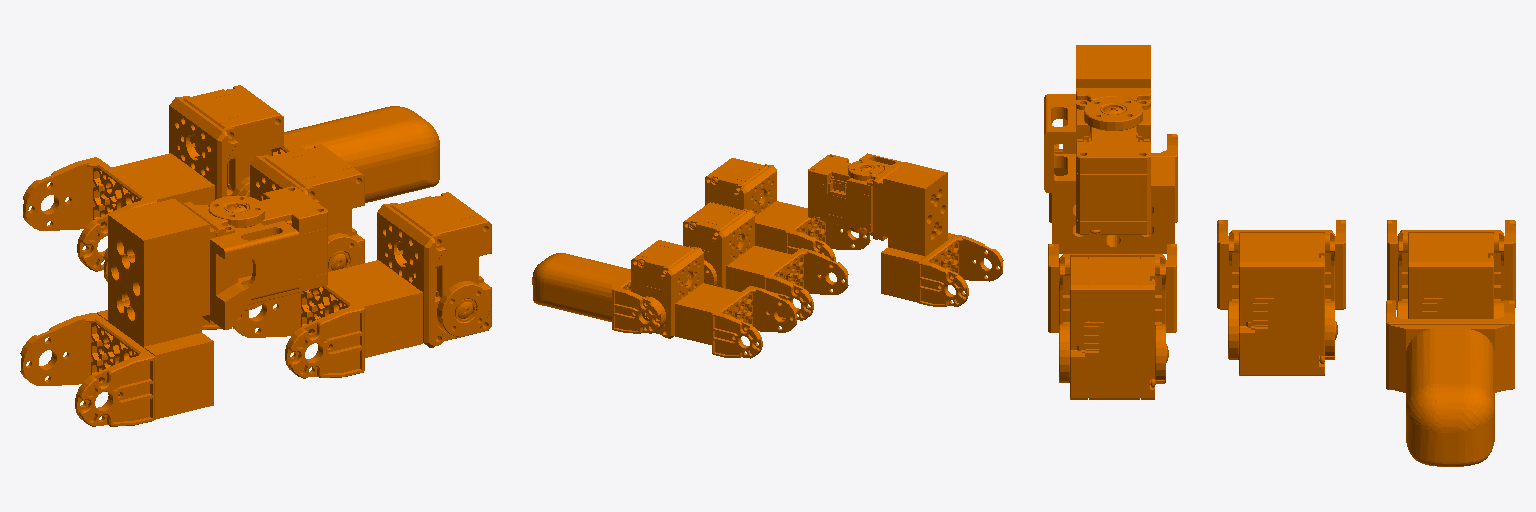
robot.urdf — onshape:
<robot name="onshape">
  <link name="palm_lower">
    <inertial>
      <origin xyz="0.0 0.0 0.0" rpy="0.0 -0.0 0.0"/>
      <mass value="0.237"/>
      <inertia ixx="0.000354094" ixy="-1.193e-06" ixz="-2.445e-06" iyy="0.000260915" iyz="-2.905e-06" izz="0.000529257"/>
    </inertial>
    <visual>
      <geometry>
        <mesh filename="../assets/leap/leap_hand/palm_lower.stl"/>
      </geometry>
      <origin xyz="-0.020095249652862544 0.025757756134899473 -0.034722403578460216" rpy="0.0 -0.0 0.0"/>
      <material name="palm_lower_material">
        <color rgba="0.6039215686274509 0.14901960784313725 0.14901960784313725 1.0"/>
      </material>
    </visual>
    <collision>
      <geometry>
        <mesh filename="../assets/leap/leap_hand/palm_lower.stl"/>
      </geometry>
      <origin xyz="-0.020095249652862544 0.025757756134899473 -0.034722403578460216" rpy="0.0 -0.0 0.0"/>
    </collision>
  </link>
  <link name="mcp_joint">
    <inertial>
      <origin xyz="0.0 0.0 0.0" rpy="0.0 -0.0 0.0"/>
      <mass value="0.044"/>
      <inertia ixx="1.1499e-05" ixy="3.049e-06" ixz="1.21e-07" iyy="7.796e-06" iyz="1.12e-07" izz="1.4759e-05"/>
    </inertial>
    <visual>
      <geometry>
        <mesh filename="../assets/leap/leap_hand/mcp_joint.stl"/>
      </geometry>
      <origin xyz="0.008406902261174496 0.0077662438597169954 0.014657354985032912" rpy="1.6375789613221e-15 -1.021047330249102e-30 1.7177968783327987e-31"/>
      <material name="mcp_joint_material">
        <color rgba="0.8666666666666667 0.8666666666666667 0.050980392156862744 1.0"/>
      </material>
    </visual>
    <collision>
      <geometry>
        <mesh filename="../assets/leap/leap_hand/mcp_joint.stl"/>
      </geometry>
      <origin xyz="0.008406902261174496 0.0077662438597169954 0.014657354985032912" rpy="1.6375789613221e-15 -1.021047330249102e-30 1.7177968783327987e-31"/>
    </collision>
  </link>
  <link name="pip">
    <inertial>
      <origin xyz="0.0 0.0 0.0" rpy="0.0 -0.0 0.0"/>
      <mass value="0.032"/>
      <inertia ixx="4.798e-06" ixy="1.2e-08" ixz="4e-09" iyy="2.862e-06" iyz="1.1e-08" izz="4.234e-06"/>
    </inertial>
    <visual>
      <geometry>
        <mesh filename="../assets/leap/leap_hand/pip.stl"/>
      </geometry>
      <origin xyz="0.009643363092271328 0.0002999999999999895 0.0007840340104173765" rpy="-1.5707963267948966 -1.5707963267948963 0.0"/>
      <material name="pip_material">
        <color rgba="0.7490196078431373 0.7490196078431373 0.7490196078431373 1.0"/>
      </material>
    </visual>
    <collision>
      <geometry>
        <mesh filename="../assets/leap/leap_hand/pip.stl"/>
      </geometry>
      <origin xyz="0.009643363092271328 0.0002999999999999895 0.0007840340104173765" rpy="-1.5707963267948966 -1.5707963267948963 0.0"/>
    </collision>
  </link>
  <link name="dip_long">
    <inertial>
      <origin xyz="0.0 0.0 0.0" rpy="0.0 -0.0 0.0"/>
      <mass value="0.037"/>
      <inertia ixx="5.542e-06" ixy="-6.07e-07" ixz="-1.7e-08" iyy="5.727e-06" iyz="-2.3e-08" izz="6.682e-06"/>
    </inertial>
    <visual>
      <geometry>
        <mesh filename="custom_models/dip_long.stl"/>
      </geometry>
      <origin xyz="0.021133352895225003 -0.00843211914670488 0.00978508816209524" rpy="-3.141592653589793 4.507511124216441e-32 4.439548105392361e-32"/>
      <material name="dip_material">
        <color rgba="0.878 0.467 0.0 1.0"/>
      </material>
    </visual>
    <collision>
      <geometry>
        <mesh filename="custom_models/dip_long.stl"/>
      </geometry>
      <origin xyz="0.021133352895225003 -0.00843211914670488 0.00978508816209524" rpy="-3.141592653589793 4.507511124216441e-32 4.439548105392361e-32"/>
    </collision>
  </link>
  <link name="fingertip_long">
    <inertial>
      <origin xyz="0.0 0.0 0.0" rpy="0.0 -0.0 0.0"/>
      <mass value="0.016"/>
      <inertia ixx="3.368e-06" ixy="1.15e-07" ixz="0.0" iyy="1.556e-06" iyz="0.0" izz="2.863e-06"/>
    </inertial>
    <visual>
      <geometry>
        <mesh filename="custom_models/fingertip_long.stl"/>
      </geometry>
      <origin xyz="0.013286424108533503 -0.006114238386541987 0.014499999999999498" rpy="3.141592653589793 1.1993117970061735e-33 4.439548105392361e-32"/>
      <material name="fingertip_material">
        <color rgba="0.878 0.467 0.0 1.0"/>
      </material>
    </visual>
    <collision>
      <geometry>
        <mesh filename="custom_models/fingertip_long.stl"/>
      </geometry>
      <origin xyz="0.013286424108533503 -0.006114238386541987 0.014499999999999498" rpy="3.141592653589793 1.1993117970061735e-33 4.439548105392361e-32"/>
    </collision>
  </link>
  <link name="pip_4">
    <inertial>
      <origin xyz="0.0 0.0 0.0" rpy="0.0 -0.0 0.0"/>
      <mass value="0.032"/>
      <inertia ixx="4.798e-06" ixy="1.2e-08" ixz="4e-09" iyy="2.862e-06" iyz="1.1e-08" izz="4.234e-06"/>
    </inertial>
    <visual>
      <geometry>
        <mesh filename="../assets/leap/leap_hand/pip.stl"/>
      </geometry>
      <origin xyz="-0.005356636907728671 0.0002999999999999999 0.0007840340104173782" rpy="-1.5707963267948966 -1.5707963267948963 0.0"/>
      <material name="pip_material">
        <color rgba="0.7490196078431373 0.7490196078431373 0.7490196078431373 1.0"/>
      </material>
    </visual>
    <collision>
      <geometry>
        <mesh filename="../assets/leap/leap_hand/pip.stl"/>
      </geometry>
      <origin xyz="-0.005356636907728671 0.0002999999999999999 0.0007840340104173782" rpy="-1.5707963267948966 -1.5707963267948963 0.0"/>
    </collision>
  </link>
  <link name="thumb_pip">
    <inertial>
      <origin xyz="0.0 0.0 0.0" rpy="0.0 -0.0 0.0"/>
      <mass value="0.003"/>
      <inertia ixx="5.93e-07" ixy="0.0" ixz="0.0" iyy="5.49e-07" iyz="0.0" izz="2.24e-07"/>
    </inertial>
    <visual>
      <geometry>
        <mesh filename="../assets/leap/leap_hand/thumb_pip.stl"/>
      </geometry>
      <origin xyz="0.011961920770611187 -5.30825383648903e-16 -0.0158526489566642" rpy="1.5707963267948966 1.6050198443300153e-46 -3.9204996250525193e-59"/>
      <material name="thumb_pip_material">
        <color rgba="0.8666666666666667 0.8666666666666667 0.050980392156862744 1.0"/>
      </material>
    </visual>
    <collision>
      <geometry>
        <mesh filename="../assets/leap/leap_hand/thumb_pip.stl"/>
      </geometry>
      <origin xyz="0.011961920770611187 -5.30825383648903e-16 -0.0158526489566642" rpy="1.5707963267948966 1.6050198443300153e-46 -3.9204996250525193e-59"/>
    </collision>
  </link>
  <link name="thumb_dip">
    <inertial>
      <origin xyz="0.0 0.0 0.0" rpy="0.0 -0.0 0.0"/>
      <mass value="0.038"/>
      <inertia ixx="8.474e-06" ixy="2.41e-07" ixz="2.6e-08" iyy="3.841e-06" iyz="2.5e-08" izz="7.679e-06"/>
    </inertial>
    <visual>
      <geometry>
        <mesh filename="../assets/leap/leap_hand/thumb_dip.stl"/>
      </geometry>
      <origin xyz="0.043968715707239175 0.0579529529737092 -0.008628676449369476" rpy="1.94289029309401e-16 3.27515792264422e-15 1.112375852965736e-46"/>
      <material name="thumb_dip_material">
        <color rgba="0.8666666666666667 0.8666666666666667 0.050980392156862744 1.0"/>
      </material>
    </visual>
    <collision>
      <geometry>
        <mesh filename="../assets/leap/leap_hand/thumb_dip.stl"/>
      </geometry>
      <origin xyz="0.043968715707239175 0.0579529529737092 -0.008628676449369476" rpy="1.94289029309401e-16 3.27515792264422e-15 1.112375852965736e-46"/>
    </collision>
  </link>
  <link name="thumb_fingertip">
    <inertial>
      <origin xyz="0.0 0.0 0.0" rpy="0.0 -0.0 0.0"/>
      <mass value="0.049"/>
      <inertia ixx="2.0372e-05" ixy="-4.89e-07" ixz="-3e-08" iyy="4.336e-06" iyz="-9.7e-08" izz="1.9845e-05"/>
    </inertial>
    <visual>
      <geometry>
        <mesh filename="../assets/leap/leap_hand/thumb_fingertip.stl"/>
      </geometry>
      <origin xyz="0.06255953846266739 0.07845968291139699 0.048992911807332215" rpy="4.379057701015637e-47 -3.33066907387547e-16 1.2042408677791935e-46"/>
      <material name="thumb_fingertip_material">
        <color rgba="0.6039215686274509 0.14901960784313725 0.14901960784313725 1.0"/>
      </material>
    </visual>
    <collision>
      <geometry>
        <mesh filename="../assets/leap/leap_hand/thumb_fingertip.stl"/>
      </geometry>
      <origin xyz="0.06255953846266739 0.07845968291139699 0.048992911807332215" rpy="4.379057701015637e-47 -3.33066907387547e-16 1.2042408677791935e-46"/>
    </collision>
  </link>
  <link name="mcp_joint_2">
    <inertial>
      <origin xyz="0.0 0.0 0.0" rpy="0.0 -0.0 0.0"/>
      <mass value="0.044"/>
      <inertia ixx="1.1499e-05" ixy="3.049e-06" ixz="1.21e-07" iyy="7.796e-06" iyz="1.12e-07" izz="1.4759e-05"/>
    </inertial>
    <visual>
      <geometry>
        <mesh filename="../assets/leap/leap_hand/mcp_joint.stl"/>
      </geometry>
      <origin xyz="0.008406902261174496 0.0077662438597169954 0.014657354985032914" rpy="1.6375789613221e-15 -1.0076465469034e-30 2.1209300131419907e-61"/>
      <material name="mcp_joint_material">
        <color rgba="0.8666666666666667 0.8666666666666667 0.050980392156862744 1.0"/>
      </material>
    </visual>
    <collision>
      <geometry>
        <mesh filename="../assets/leap/leap_hand/mcp_joint.stl"/>
      </geometry>
      <origin xyz="0.008406902261174496 0.0077662438597169954 0.014657354985032914" rpy="1.6375789613221e-15 -1.0076465469034e-30 2.1209300131419907e-61"/>
    </collision>
  </link>
  <link name="pip_2">
    <inertial>
      <origin xyz="0.0 0.0 0.0" rpy="0.0 -0.0 0.0"/>
      <mass value="0.032"/>
      <inertia ixx="4.798e-06" ixy="1.2e-08" ixz="4e-09" iyy="2.862e-06" iyz="1.1e-08" izz="4.234e-06"/>
    </inertial>
    <visual>
      <geometry>
        <mesh filename="../assets/leap/leap_hand/pip.stl"/>
      </geometry>
      <origin xyz="0.009643363092271328 0.0002999999999999947 0.0007840340104173765" rpy="-1.5707963267948966 -1.5707963267948963 0.0"/>
      <material name="pip_material">
        <color rgba="0.7490196078431373 0.7490196078431373 0.7490196078431373 1.0"/>
      </material>
    </visual>
    <collision>
      <geometry>
        <mesh filename="../assets/leap/leap_hand/pip.stl"/>
      </geometry>
      <origin xyz="0.009643363092271328 0.0002999999999999947 0.0007840340104173765" rpy="-1.5707963267948966 -1.5707963267948963 0.0"/>
    </collision>
  </link>
  <link name="dip_2_long">
    <inertial>
      <origin xyz="0.0 0.0 0.0" rpy="0.0 -0.0 0.0"/>
      <mass value="0.037"/>
      <inertia ixx="5.542e-06" ixy="-6.07e-07" ixz="-1.7e-08" iyy="5.727e-06" iyz="-2.3e-08" izz="6.682e-06"/>
    </inertial>
    <visual>
      <geometry>
        <mesh filename="custom_models/dip_long.stl"/>
      </geometry>
      <origin xyz="0.021133352895225003 -0.008432119146704865 0.009785088162095237" rpy="-3.141592653589793 2.1146933785271956e-32 1.4408183216511869e-31"/>
      <material name="dip_material">
        <color rgba="0.878 0.467 0.0 1.0"/>
      </material>
    </visual>
    <collision>
      <geometry>
        <mesh filename="custom_models/dip_long.stl"/>
      </geometry>
      <origin xyz="0.021133352895225003 -0.008432119146704865 0.009785088162095237" rpy="-3.141592653589793 2.1146933785271956e-32 1.4408183216511869e-31"/>
    </collision>
  </link>
  <link name="fingertip_2">
    <inertial>
      <origin xyz="0.0 0.0 0.0" rpy="0.0 -0.0 0.0"/>
      <mass value="0.016"/>
      <inertia ixx="3.368e-06" ixy="1.15e-07" ixz="0.0" iyy="1.556e-06" iyz="0.0" izz="2.863e-06"/>
    </inertial>
    <visual>
      <geometry>
        <mesh filename="../assets/leap/leap_hand/fingertip.stl"/>
      </geometry>
      <origin xyz="0.013286424108533496 -0.006114238386542001 0.014499999999999496" rpy="3.141592653589793 -4.317959788283594e-33 1.4408183216511869e-31"/>
      <material name="fingertip_material">
        <color rgba="0.8666666666666667 0.8666666666666667 0.050980392156862744 1.0"/>
      </material>
    </visual>
    <collision>
      <geometry>
        <mesh filename="../assets/leap/leap_hand/fingertip.stl"/>
      </geometry>
      <origin xyz="0.013286424108533496 -0.006114238386542001 0.014499999999999496" rpy="3.141592653589793 -4.317959788283594e-33 1.4408183216511869e-31"/>
    </collision>
  </link>
  <link name="mcp_joint_3_long">
    <inertial>
      <origin xyz="0.0 0.0 0.0" rpy="0.0 -0.0 0.0"/>
      <mass value="0.044"/>
      <inertia ixx="1.1499e-05" ixy="3.049e-06" ixz="1.21e-07" iyy="7.796e-06" iyz="1.12e-07" izz="1.4759e-05"/>
    </inertial>
    <visual>
      <geometry>
        <mesh filename="custom_models/mcp_joint_long.stl"/>
      </geometry>
      <origin xyz="0.0084069022611745 0.007766243859716996 0.014657354985032914" rpy="1.6375789613221e-15 -1.0059504988632627e-30 5.729641584552035e-32"/>
      <material name="mcp_joint_material">
        <color rgba="0.878 0.467 0.0 1.0"/>
      </material>
    </visual>
    <collision>
      <geometry>
        <mesh filename="custom_models/mcp_joint_long.stl"/>
      </geometry>
      <origin xyz="0.0084069022611745 0.007766243859716996 0.014657354985032914" rpy="1.6375789613221e-15 -1.0059504988632627e-30 5.729641584552035e-32"/>
    </collision>
  </link>
  <link name="pip_3">
    <inertial>
      <origin xyz="0.0 0.0 0.0" rpy="0.0 -0.0 0.0"/>
      <mass value="0.032"/>
      <inertia ixx="4.798e-06" ixy="1.2e-08" ixz="4e-09" iyy="2.862e-06" iyz="1.1e-08" izz="4.234e-06"/>
    </inertial>
    <visual>
      <geometry>
        <mesh filename="../assets/leap/leap_hand/pip.stl"/>
      </geometry>
      <origin xyz="0.009643363092271331 0.00029999999999998084 0.0007840340104173765" rpy="-1.5707963267948966 -1.5707963267948963 0.0"/>
      <material name="pip_material">
        <color rgba="0.7490196078431373 0.7490196078431373 0.7490196078431373 1.0"/>
      </material>
    </visual>
    <collision>
      <geometry>
        <mesh filename="../assets/leap/leap_hand/pip.stl"/>
      </geometry>
      <origin xyz="0.009643363092271331 0.00029999999999998084 0.0007840340104173765" rpy="-1.5707963267948966 -1.5707963267948963 0.0"/>
    </collision>
  </link>
  <link name="dip_3_long">
    <inertial>
      <origin xyz="0.0 0.0 0.0" rpy="0.0 -0.0 0.0"/>
      <mass value="0.037"/>
      <inertia ixx="5.542e-06" ixy="-6.07e-07" ixz="-1.7e-08" iyy="5.727e-06" iyz="-2.3e-08" izz="6.682e-06"/>
    </inertial>
    <visual>
      <geometry>
        <mesh filename="custom_models/dip_long.stl"/>
      </geometry>
      <origin xyz="0.021133352895225006 -0.008432119146704865 0.009785088162095237" rpy="-3.141592653589793 -1.4095651113919093e-33 1.5565411607615035e-32"/>
      <material name="dip_material">
        <color rgba="0.878 0.467 0.0 1.0"/>
      </material>
    </visual>
    <collision>
      <geometry>
        <mesh filename="custom_models/dip_long.stl"/>
      </geometry>
      <origin xyz="0.021133352895225006 -0.008432119146704865 0.009785088162095237" rpy="-3.141592653589793 -1.4095651113919093e-33 1.5565411607615035e-32"/>
    </collision>
  </link>
  <link name="fingertip_3">
    <inertial>
      <origin xyz="0.0 0.0 0.0" rpy="0.0 -0.0 0.0"/>
      <mass value="0.016"/>
      <inertia ixx="3.368e-06" ixy="1.15e-07" ixz="0.0" iyy="1.556e-06" iyz="0.0" izz="2.863e-06"/>
    </inertial>
    <visual>
      <geometry>
        <mesh filename="../assets/leap/leap_hand/fingertip.stl"/>
      </geometry>
      <origin xyz="0.013286424108533501 -0.006114238386541987 0.0144999999999995" rpy="3.141592653589793 8.61707169505754e-33 1.5565411607615035e-32"/>
      <material name="fingertip_material">
        <color rgba="0.8666666666666667 0.8666666666666667 0.050980392156862744 1.0"/>
      </material>
    </visual>
    <collision>
      <geometry>
        <mesh filename="../assets/leap/leap_hand/fingertip.stl"/>
      </geometry>
      <origin xyz="0.013286424108533501 -0.006114238386541987 0.0144999999999995" rpy="3.141592653589793 8.61707169505754e-33 1.5565411607615035e-32"/>
    </collision>
  </link>
  <joint name="1" type="revolute">
    <parent link="palm_lower"/>
    <child link="mcp_joint"/>
    <origin xyz="-0.007095249652862546 0.023057756134899472 -0.01872240357846022" rpy="1.570796326794895 1.5707963267948946 0.0"/>
    <axis xyz="0.0 0.0 -1.0"/>
    <limit effort="0.95" velocity="8.48" lower="-0.314" upper="2.23"/>
  </joint>
  <joint name="0" type="revolute">
    <parent link="mcp_joint"/>
    <child link="pip"/>
    <origin xyz="-0.012200000000000008 0.038099999999999995 0.0145" rpy="-1.5707963267948966 -1.0065212660796337e-15 1.5707963267948943"/>
    <axis xyz="0.0 0.0 -1.0"/>
    <limit effort="0.95" velocity="8.48" lower="-1.047" upper="1.047"/>
  </joint>
  <joint name="2" type="revolute">
    <parent link="pip"/>
    <child link="dip_long"/>
    <origin xyz="0.014999999999999968 0.014299999999999905 -0.012999999999999824" rpy="1.570796326794896 -1.5707963267948963 0.0"/>
    <axis xyz="0.0 0.0 -1.0"/>
    <limit effort="0.95" velocity="8.48" lower="-0.506" upper="1.885"/>
  </joint>
  <joint name="3" type="revolute">
    <parent link="dip_long"/>
    <child link="fingertip_long"/>
    <origin xyz="-4.0880582495572692636e-09 -0.051100004210367367397 0.00020000000000007858714" rpy="4.5935029425113685e-17 -2.8730071914463795e-16 4.439548105392361e-32"/>
    <axis xyz="0.0 0.0 -1.0"/>
    <limit effort="0.95" velocity="8.48" lower="-0.366" upper="2.042"/>
  </joint>
  <joint name="12" type="revolute">
    <parent link="palm_lower"/>
    <child link="pip_4"/>
    <origin xyz="-0.06939524965286253 -0.0012422438651005258 -0.021622403578460216" rpy="-8.238176646493942e-17 1.5707963267948957 0.0"/>
    <axis xyz="0.0 0.0 -1.0"/>
    <limit effort="0.95" velocity="8.48" lower="-0.349" upper="2.094"/>
  </joint>
  <joint name="13" type="revolute">
    <parent link="pip_4"/>
    <child link="thumb_pip"/>
    <origin xyz="-2.7755575615628914e-17 0.014300000000000005 -0.013000000000000012" rpy="1.570796326794896 -1.5707963267948963 0.0"/>
    <axis xyz="0.0 0.0 -1.0"/>
    <limit effort="0.95" velocity="8.48" lower="-0.47" upper="2.443"/>
  </joint>
  <joint name="14" type="revolute">
    <parent link="thumb_pip"/>
    <child link="thumb_dip"/>
    <origin xyz="0.0 0.014499999999999966 -0.017000000000000053" rpy="-1.5707963267948966 1.6050198443300131e-46 -1.9721522630516625e-31"/>
    <axis xyz="0.0 0.0 -1.0"/>
    <limit effort="0.95" velocity="8.48" lower="-1.2" upper="1.9"/>
  </joint>
  <joint name="15" type="revolute">
    <parent link="thumb_dip"/>
    <child link="thumb_fingertip"/>
    <origin xyz="-1.249000902703301e-16 0.046599999999999864 0.0001999999999999771" rpy="1.506395849149178e-44 5.423418723393526e-31 3.141592653589793"/>
    <axis xyz="0.0 0.0 -1.0"/>
    <limit effort="0.95" velocity="8.48" lower="-1.34" upper="1.88"/>
  </joint>
  <joint name="5" type="revolute">
    <parent link="palm_lower"/>
    <child link="mcp_joint_2"/>
    <origin xyz="-0.007095249652862546 -0.022392243865100525 -0.01872240357846022" rpy="1.570796326794895 1.5707963267948946 0.0"/>
    <axis xyz="0.0 0.0 -1.0"/>
    <limit effort="0.95" velocity="8.48" lower="-0.314" upper="2.23"/>
  </joint>
  <joint name="4" type="revolute">
    <parent link="mcp_joint_2"/>
    <child link="pip_2"/>
    <origin xyz="-0.012200000000000008 0.038099999999999995 0.0145" rpy="-1.5707963267948966 -1.0065212660796337e-15 1.5707963267948943"/>
    <axis xyz="0.0 0.0 -1.0"/>
    <limit effort="0.95" velocity="8.48" lower="-1.047" upper="1.047"/>
  </joint>
  <joint name="6" type="revolute">
    <parent link="pip_2"/>
    <child link="dip_2_long"/>
    <origin xyz="0.014999999999999968 0.014299999999999905 -0.012999999999999824" rpy="1.570796326794896 -1.5707963267948963 0.0"/>
    <axis xyz="0.0 0.0 -1.0"/>
    <limit effort="0.95" velocity="8.48" lower="-0.506" upper="1.885"/>
  </joint>
  <joint name="7" type="revolute">
    <parent link="dip_2_long"/>
    <child link="fingertip_2"/>
    <origin xyz="-4.0880582495572692636e-09 -0.051100004210367367397 0.00020000000000007858714" rpy="4.5935029425113685e-17 -2.8730071914463795e-16 4.439548105392361e-32"/>
    <axis xyz="0.0 0.0 -1.0"/>
    <limit effort="0.95" velocity="8.48" lower="-0.366" upper="2.042"/>
  </joint>
  <joint name="9" type="revolute">
    <parent link="palm_lower"/>
    <child link="mcp_joint_3_long"/>
    <origin xyz="-0.007095249652862546 -0.06784224386510052 -0.01872240357846022" rpy="1.570796326794895 1.5707963267948946 0.0"/>
    <axis xyz="0.0 0.0 -1.0"/>
    <limit effort="0.95" velocity="8.48" lower="-0.314" upper="2.23"/>
  </joint>
  <joint name="8" type="revolute">
    <parent link="mcp_joint_3_long"/>
    <child link="pip_3"/>
    <origin xyz="-0.012200000000000007713 0.053099999999999994982 0.014500000000000000736" rpy="-1.5707963267948966 -1.0065212660796337e-15 1.5707963267948943"/>
    <axis xyz="0.0 0.0 -1.0"/>
    <limit effort="0.95" velocity="8.48" lower="-1.047" upper="1.047"/>
  </joint>
  <joint name="10" type="revolute">
    <parent link="pip_3"/>
    <child link="dip_3_long"/>
    <origin xyz="0.014999999999999968 0.014299999999999905 -0.012999999999999824" rpy="1.570796326794896 -1.5707963267948963 0.0"/>
    <axis xyz="0.0 0.0 -1.0"/>
    <limit effort="0.95" velocity="8.48" lower="-0.506" upper="1.885"/>
  </joint>
  <joint name="11" type="revolute">
    <parent link="dip_3_long"/>
    <child link="fingertip_3"/>
    <origin xyz="-4.0880582495572692636e-09 -0.051100004210367367397 0.00020000000000007858714" rpy="4.5935029425113685e-17 -2.8730071914463795e-16 4.439548105392361e-32"/>
    <axis xyz="0.0 0.0 -1.0"/>
    <limit effort="0.95" velocity="8.48" lower="-0.366" upper="2.042"/>
  </joint>
</robot>

--- Render facts (derived) ---
The picture shows the robot from 3 angles, left to right: view 1: azimuth 30°, elevation 25°; view 2: azimuth 150°, elevation 25°; view 3: azimuth 270°, elevation 25°; orthographic projection.
Model onshape with 17 links and 16 joints (16 revolute), rooted at palm_lower, posed all joints at 0.
Visible links, largest first — view 1: mcp_joint_3_long, dip_3_long, dip_long, fingertip_long, dip_2_long; view 2: mcp_joint_3_long, dip_long, dip_2_long, dip_3_long, fingertip_long; view 3: mcp_joint_3_long, dip_2_long, dip_3_long, fingertip_long, dip_long.
Boxes of the visible links, <box> form: mcp_joint_3_long: <box>20,186,327,426</box>; dip_3_long: <box>233,192,491,378</box>; dip_long: <box>23,85,283,271</box>; fingertip_long: <box>239,106,439,202</box>; dip_2_long: <box>103,144,364,329</box>; mcp_joint_3_long: <box>808,153,1003,306</box>; dip_long: <box>631,240,796,358</box>; dip_2_long: <box>683,202,848,320</box>; dip_3_long: <box>705,158,870,274</box>; fingertip_long: <box>532,253,662,333</box>; mcp_joint_3_long: <box>1044,45,1177,253</box>; dip_2_long: <box>1217,220,1345,375</box>; dip_3_long: <box>1048,244,1176,399</box>; fingertip_long: <box>1386,300,1514,466</box>; dip_long: <box>1387,220,1515,318</box>.
Bounding box of the posed robot: 0.1766 × 0.1265 × 0.0549 m (x, y, z).
5 mesh visuals loaded from 10 distinct referenced files (3 binary STL); not drawn: 12 (reference not matched to a file when rendering).